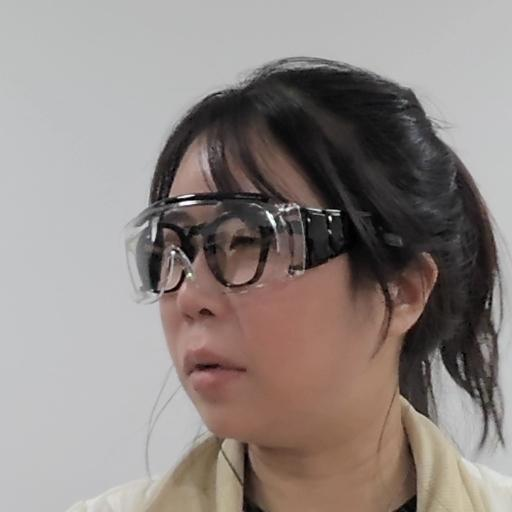glasses: (116, 56, 499, 423)
